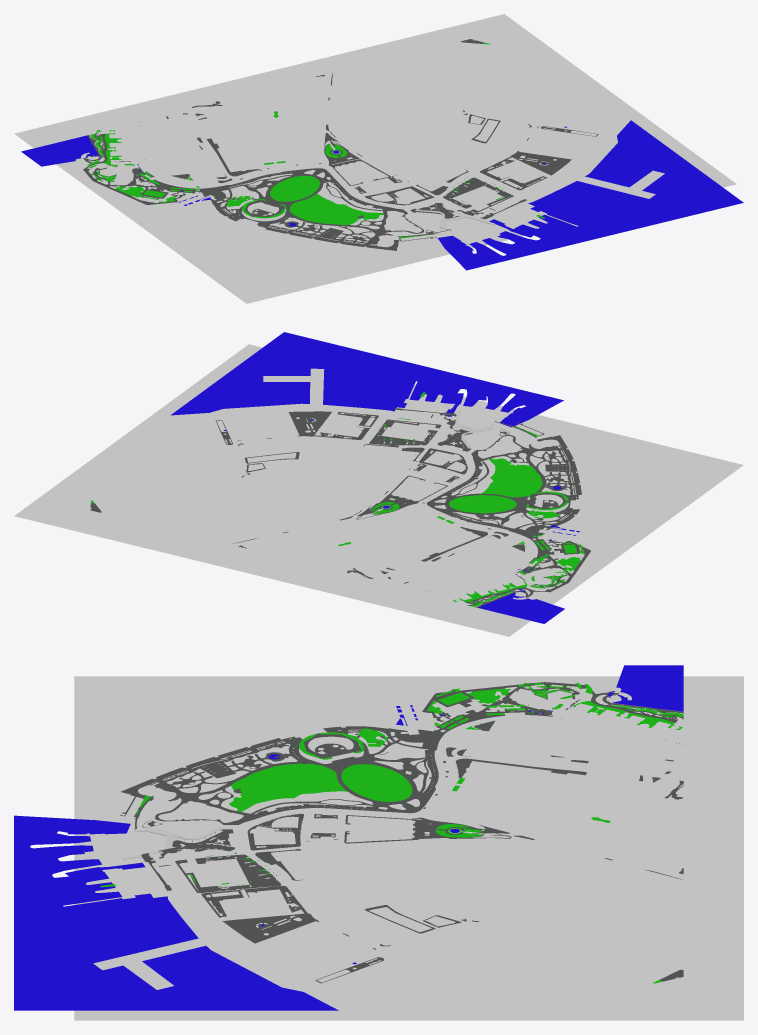
File: water_mesh.glb
3 views of the same model, one above another, from view 1: azimuth 30°, elevation 25°; view 2: azimuth 150°, elevation 25°; view 3: azimuth 270°, elevation 25° (orthographic). The views are drawn at different scales.
Parts seen in each view (by area): view 1: Terrain.001, water_mesh, element.195, The Battery Woodland, element.215, The Battery Oval, element.202, Vietnam Veterans Plaza; view 2: Terrain.001, water_mesh, element.195, The Battery Woodland, element.215, The Battery Oval, element.202, Vietnam Veterans Plaza; view 3: Terrain.001, water_mesh, element.195, The Battery Woodland, element.215, The Battery Oval, element.202, Vietnam Veterans Plaza, element.193, element.201, bridge_1.
Boxes of the visible parts, left/top/right/bottom form: Terrain.001: left=14, top=14, right=736, bottom=303; water_mesh: left=438, top=120, right=743, bottom=270; element.195: left=214, top=168, right=423, bottom=250; The Battery Woodland: left=289, top=193, right=383, bottom=225; element.215: left=21, top=135, right=99, bottom=166; The Battery Oval: left=270, top=175, right=320, bottom=201; element.202: left=443, top=177, right=513, bottom=212; Vietnam Veterans Plaza: left=511, top=152, right=571, bottom=175; Terrain.001: left=14, top=344, right=743, bottom=636; water_mesh: left=171, top=332, right=563, bottom=427; element.195: left=426, top=434, right=581, bottom=531; The Battery Woodland: left=481, top=458, right=542, bottom=497; element.215: left=478, top=592, right=564, bottom=623; The Battery Oval: left=449, top=495, right=516, bottom=513; element.202: left=369, top=419, right=441, bottom=445; Vietnam Veterans Plaza: left=288, top=411, right=331, bottom=436; Terrain.001: left=74, top=676, right=743, bottom=1020; water_mesh: left=14, top=815, right=338, bottom=1010; element.195: left=121, top=726, right=438, bottom=825; The Battery Woodland: left=229, top=763, right=347, bottom=811; element.215: left=613, top=665, right=683, bottom=711; The Battery Oval: left=341, top=764, right=412, bottom=801; element.202: left=175, top=854, right=281, bottom=892; Vietnam Veterans Plaza: left=222, top=913, right=315, bottom=943; element.193: left=386, top=728, right=445, bottom=749; element.201: left=201, top=885, right=307, bottom=917; bridge_1: left=122, top=827, right=222, bottom=859.
Bounding box in the file's own units: 1142 × 25.7 × 995.
